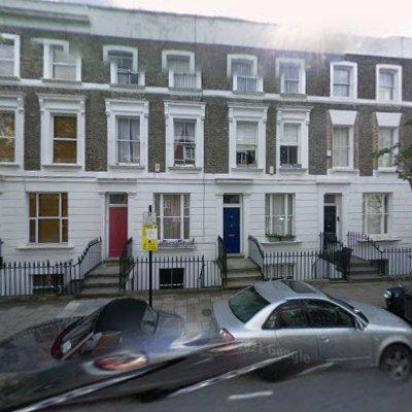stationary-car-onstreet: (194, 276, 410, 382), (0, 293, 190, 411), (382, 276, 412, 330)
